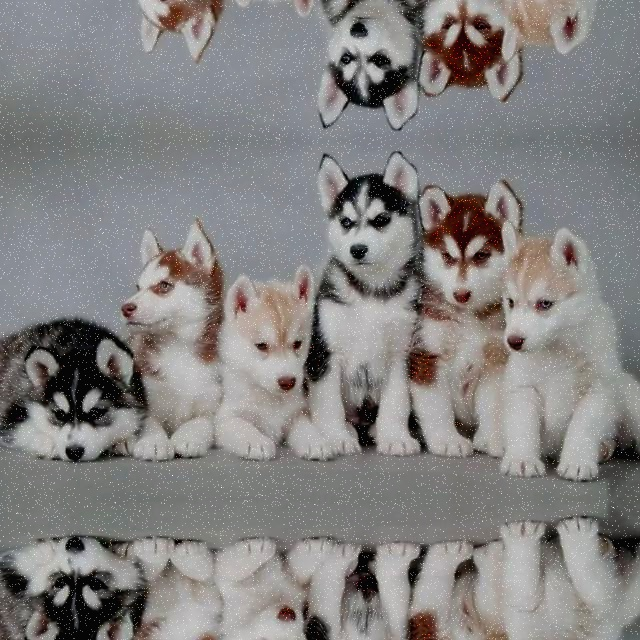dog: (295, 145, 432, 450), (427, 170, 530, 460), (128, 208, 224, 468), (296, 0, 433, 134), (296, 546, 433, 640), (428, 0, 531, 110), (128, 529, 225, 640), (428, 538, 531, 640), (128, 0, 225, 72)
